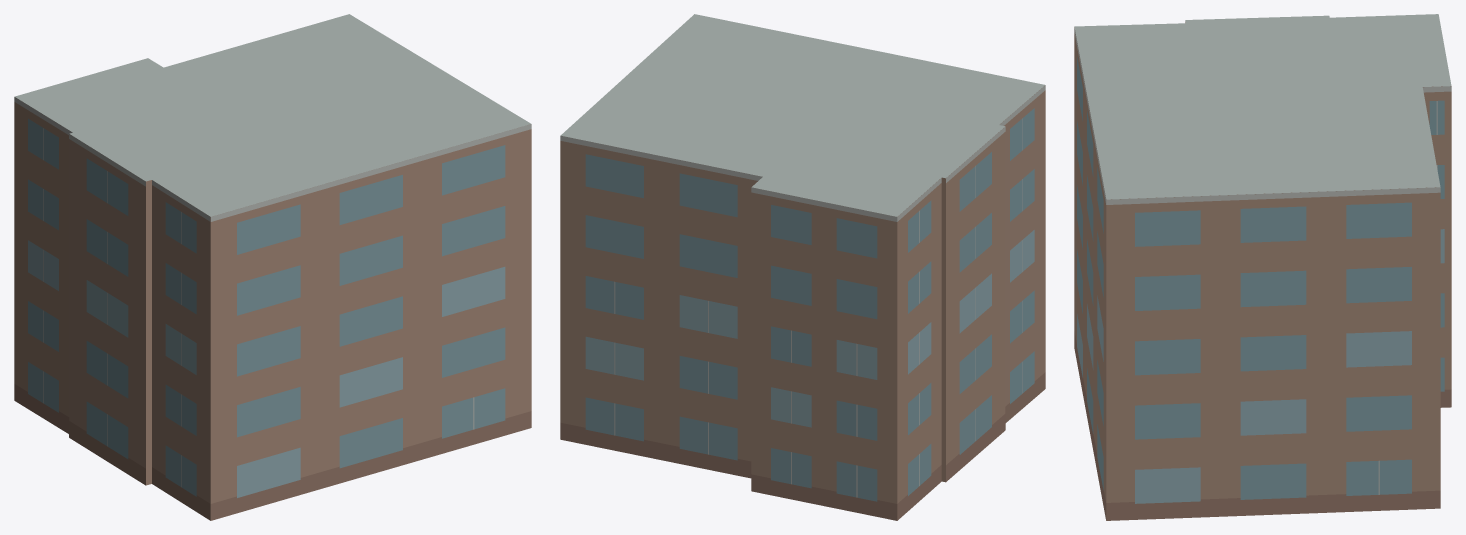
The model's file is survey-upis-32744508.glb.
3 renders of one model, left to right at view 1: azimuth 30°, elevation 25°; view 2: azimuth 150°, elevation 25°; view 3: azimuth 270°, elevation 25°, orthographic. The views are drawn at different scales.
Visible parts, largest first — view 1: survey-upis-32744508.tmp; view 2: survey-upis-32744508.tmp; view 3: survey-upis-32744508.tmp.
Part boxes in pixels (left/top/right/bottom): survey-upis-32744508.tmp: left=14, top=14, right=531, bottom=520; survey-upis-32744508.tmp: left=560, top=14, right=1045, bottom=520; survey-upis-32744508.tmp: left=1074, top=14, right=1451, bottom=520.
Bounding box in the file's own units: 17.79 × 14.35 × 15.28.
